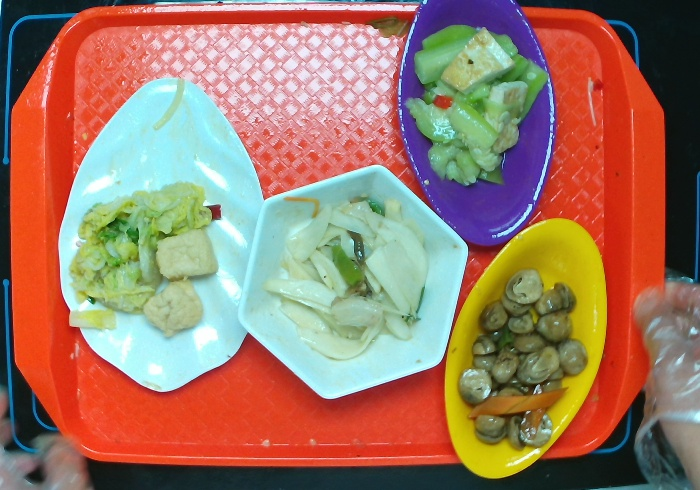RJxy-Bai_Ye_Pan: (49, 72, 275, 400)
RJxy-Fen_Hong_Tuo_Yuan: (383, 1, 561, 251)
RJxy-Huang_Se_Tuo_Yuan: (440, 216, 613, 483)
RJxy-Liu_Jiao_Wan: (233, 156, 472, 403)
